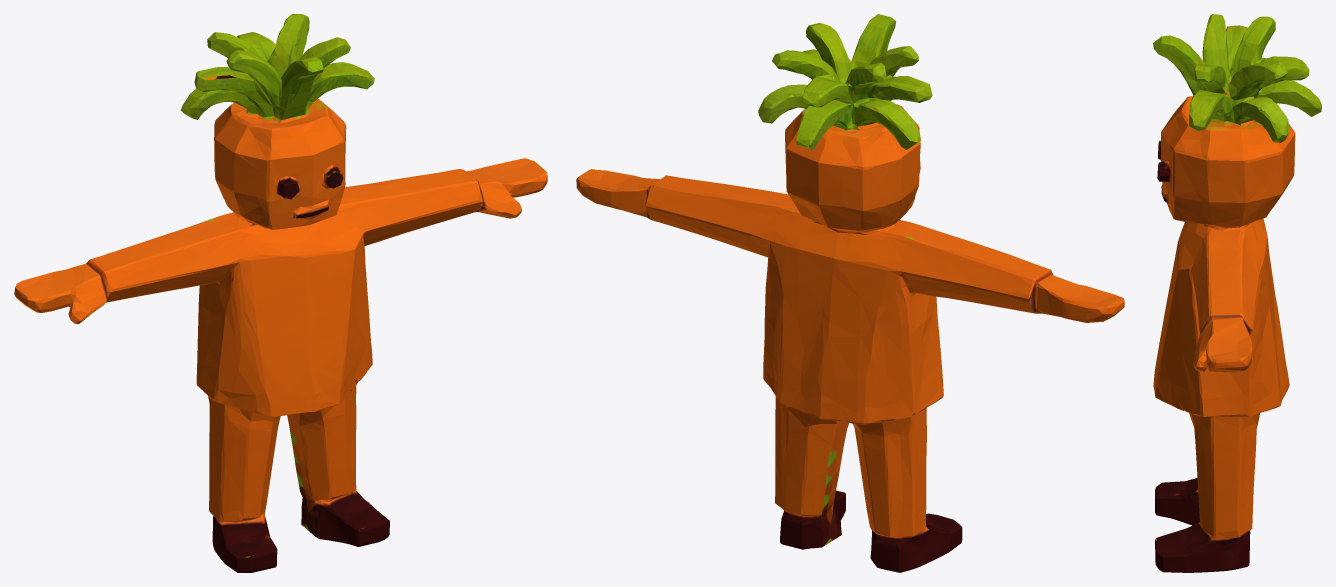
The model's file is teriyaki-atlantic-salmon.glb.
3 renders of one model, left to right at view 1: azimuth 30°, elevation 25°; view 2: azimuth 150°, elevation 25°; view 3: azimuth 270°, elevation 25°, orthographic. The views are drawn at different scales.
Parts seen in each view (by area): view 1: tmpyytqbszy.ply; view 2: tmpyytqbszy.ply; view 3: tmpyytqbszy.ply.
Boxes of the visible parts, x1=… form: tmpyytqbszy.ply: x1=14, y1=14, x2=547, y2=572; tmpyytqbszy.ply: x1=576, y1=14, x2=1124, y2=572; tmpyytqbszy.ply: x1=1153, y1=14, x2=1321, y2=572.
Size of the model in its own units: 1.99 by 1.83 by 0.5576.
Materials: 1 (1 with a texture image).
